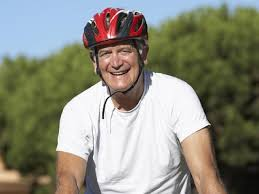helmet: (83, 8, 149, 93)
